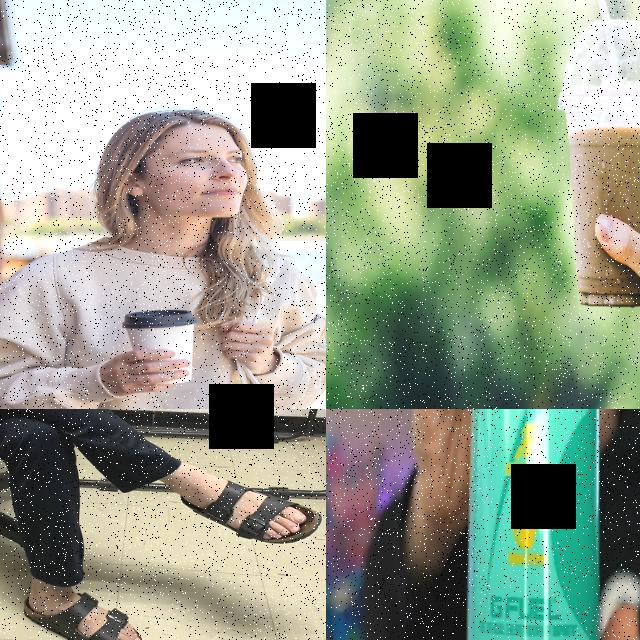can: (465, 409, 601, 640)
cup: (559, 21, 640, 311), (122, 309, 200, 385)
